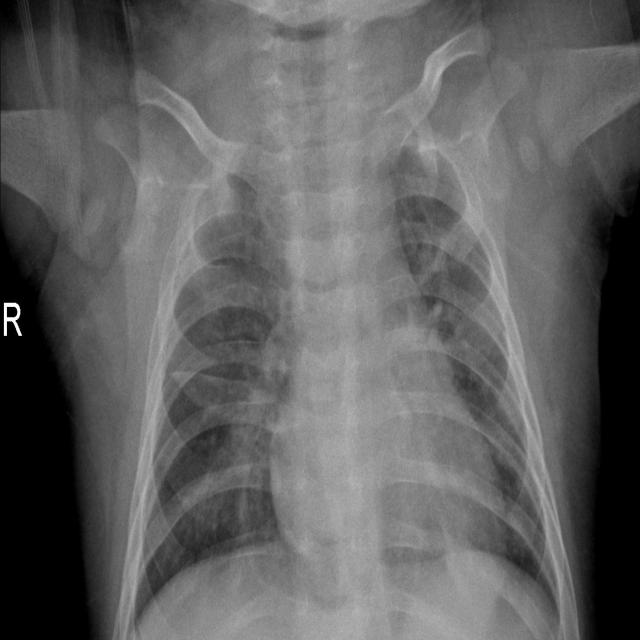low-pneumonia: (225, 303, 296, 503), (222, 143, 277, 277)
